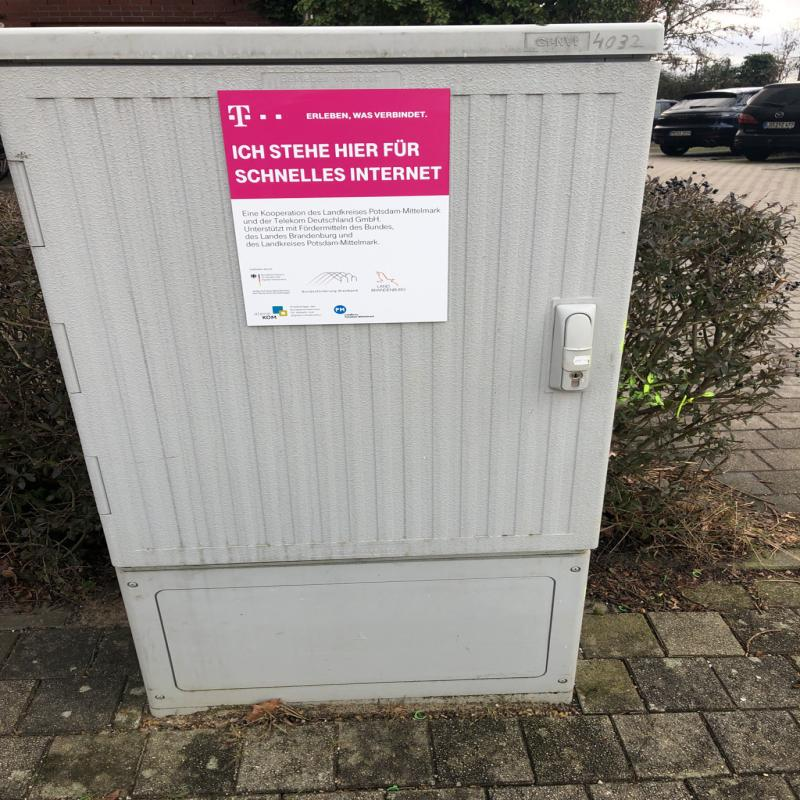NT-Gehause: (4, 25, 654, 708)
Steaker: (208, 80, 457, 326)
